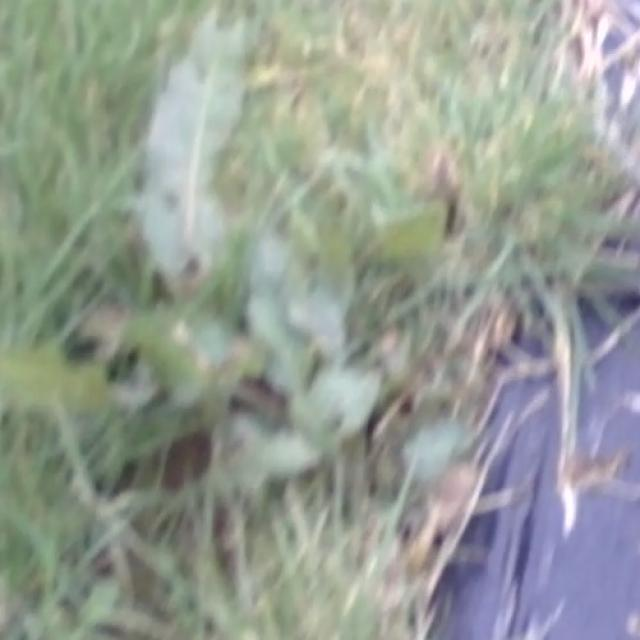organic waste: (30, 51, 438, 502)
